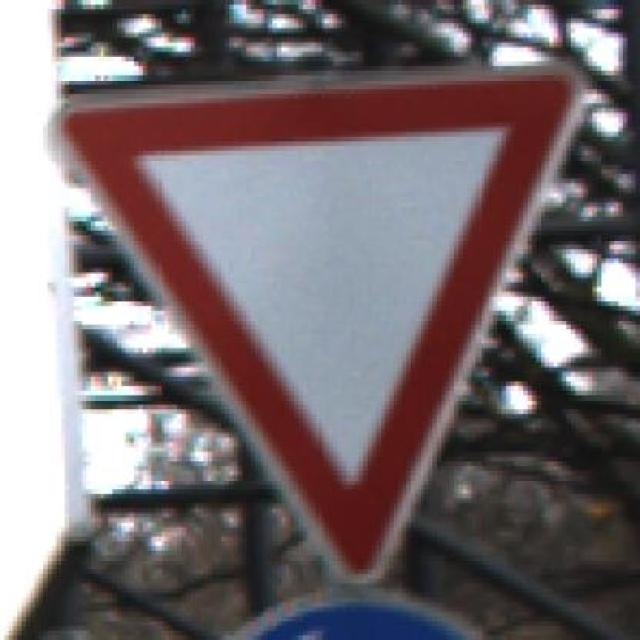Give Way: (8, 38, 601, 593)
